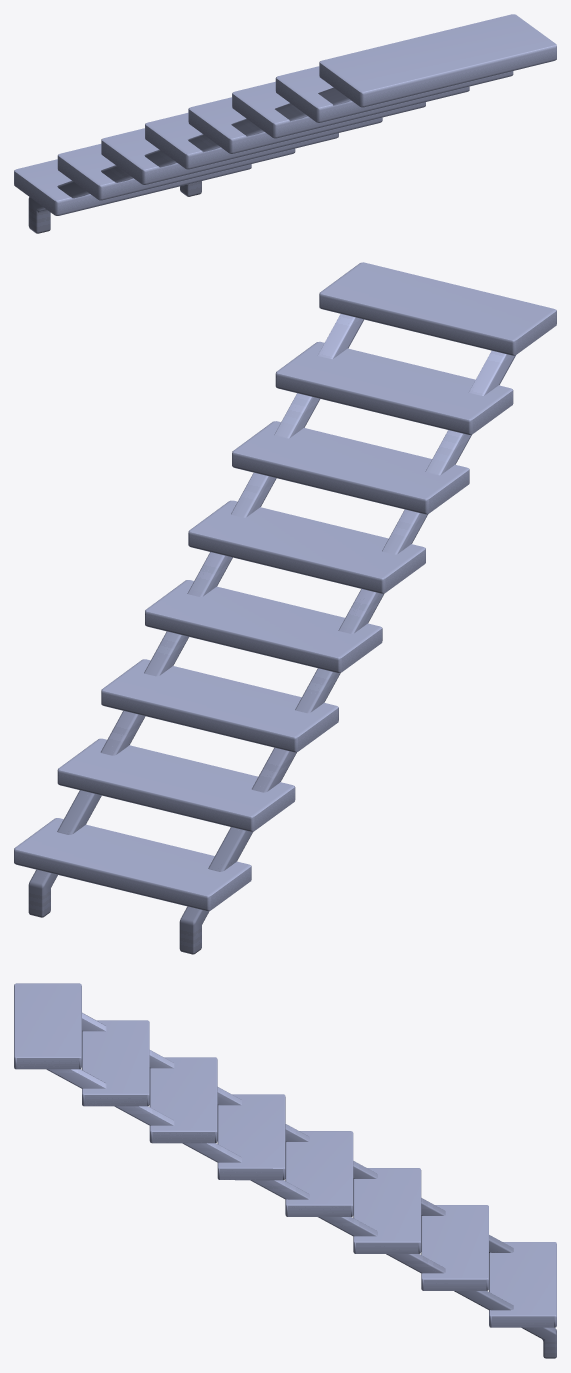
The model's file is stairs-open.glb.
3 views of the same model, one above another, from view 1: azimuth 30°, elevation 25°; view 2: azimuth 150°, elevation 25°; view 3: azimuth 270°, elevation 25° (orthographic). The views are drawn at different scales.
Visible parts, largest first — view 1: stairs-open; view 2: stairs-open; view 3: stairs-open.
Part boxes in pixels (box(x1,y1,x2,y2)): stairs-open: box(14, 14, 556, 233); stairs-open: box(14, 262, 556, 954); stairs-open: box(14, 983, 556, 1358).
Bounding box in the file's own units: 1.3 × 2.5 × 4.
1 material, 1 textured.
